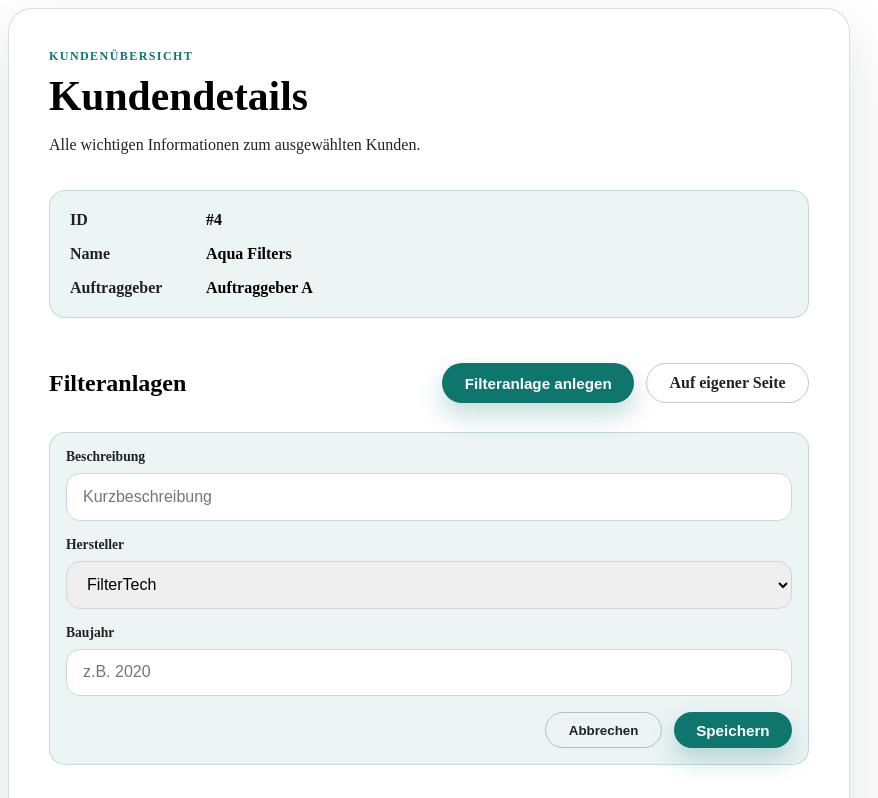
CustomerDetailPage › should toggle plant form via cancel button
The image size is (878, 798).
Expected: the form is shown, top-left (49, 432), bottom-right (809, 765)
Step 1. Click the button with class "ghost-link-button" showing "Abbrechen" → [604, 730], box top-left (545, 712), bottom-right (662, 748)
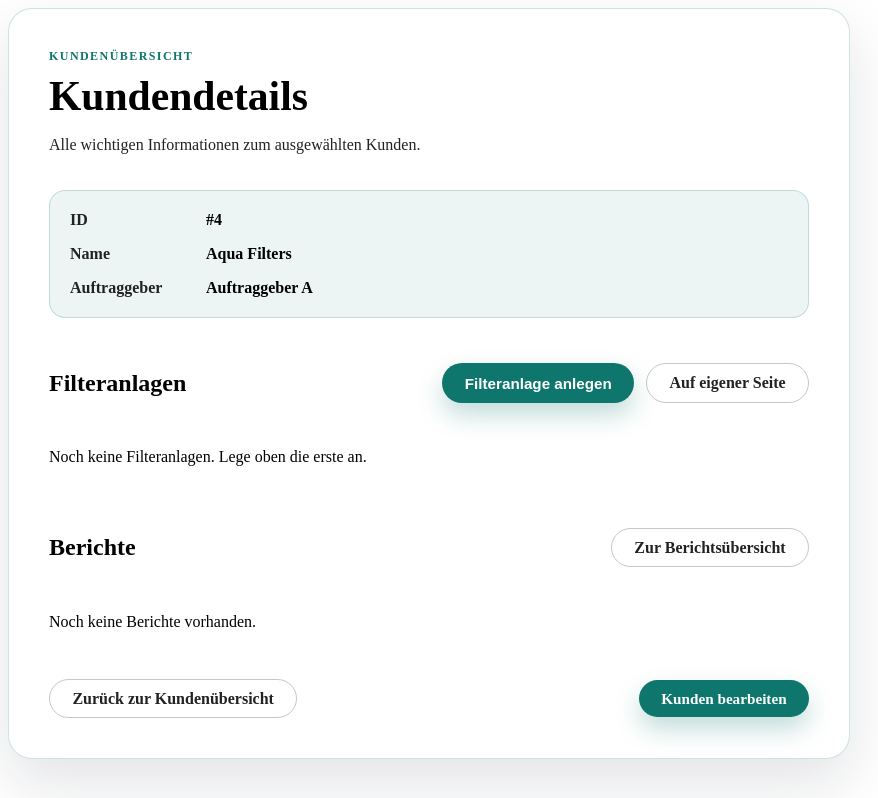
Expected: the form is gone
